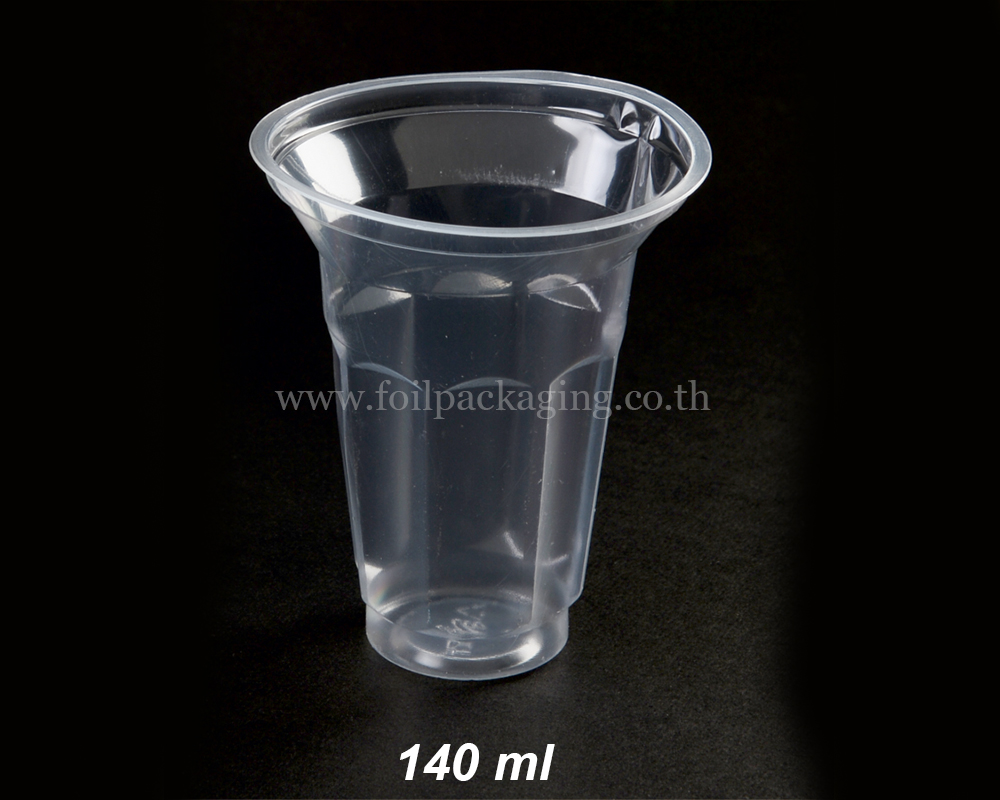plastic_glass: (175, 40, 795, 744)
